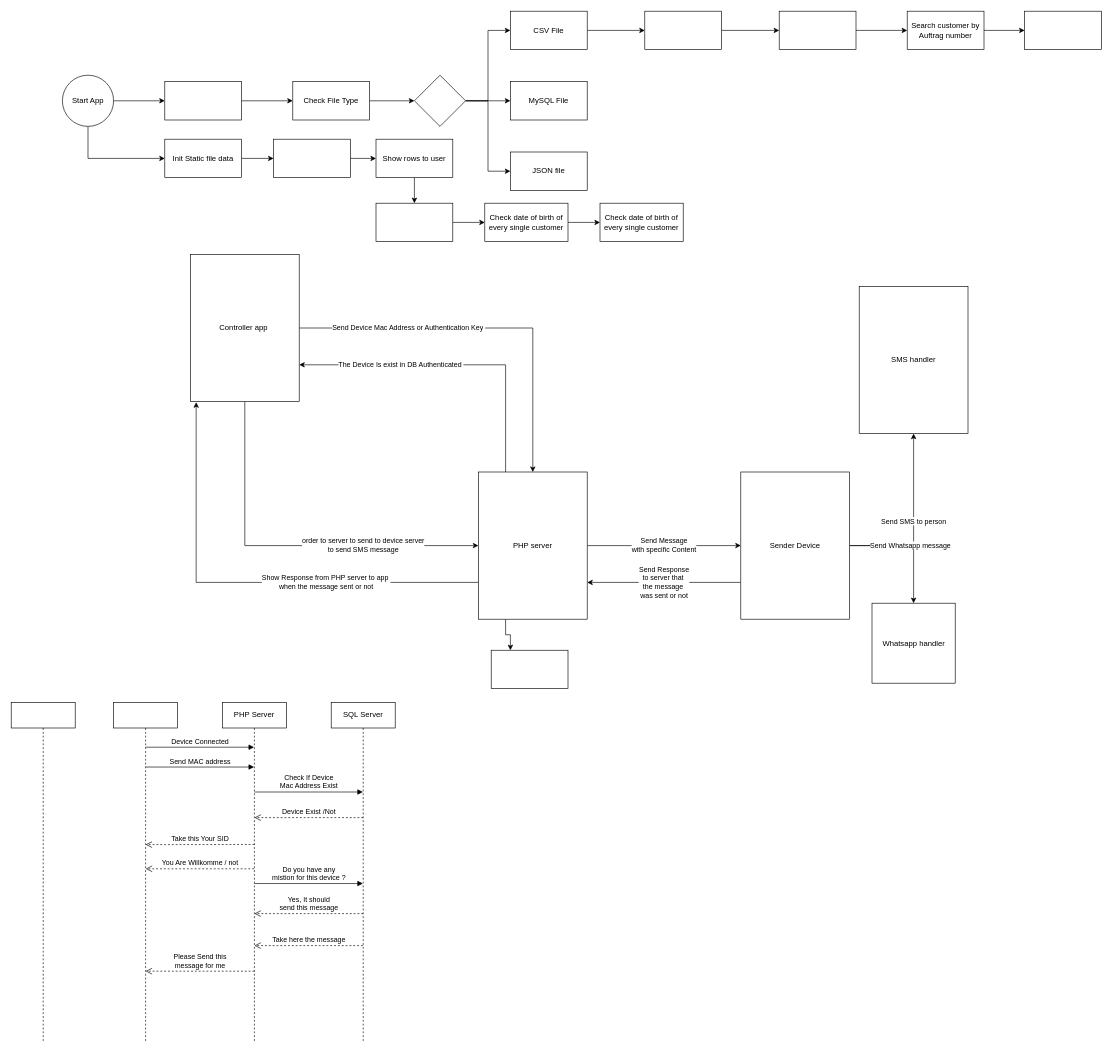
Some shapes in this 1113 by 1053 pixel diagram are drawn without their labels. Here are the shapes that lost their labels. From the top down, the box of each, then its label:
(644, 11, 722, 50): Analyze Data, check if the first row is the header of the file
(779, 11, 856, 50): Show Data to User
(1024, 11, 1101, 50): Add the row to static file in case the user wanted to
(164, 81, 242, 120): Upload File
(273, 139, 350, 178): Each rows from file
(375, 203, 453, 242): Detect Date Check if contract expired or not
(491, 650, 568, 689): Add the number to list to check if the message sent or not
(11, 702, 75, 1042): Desktop App
(113, 702, 178, 1042): Java App
